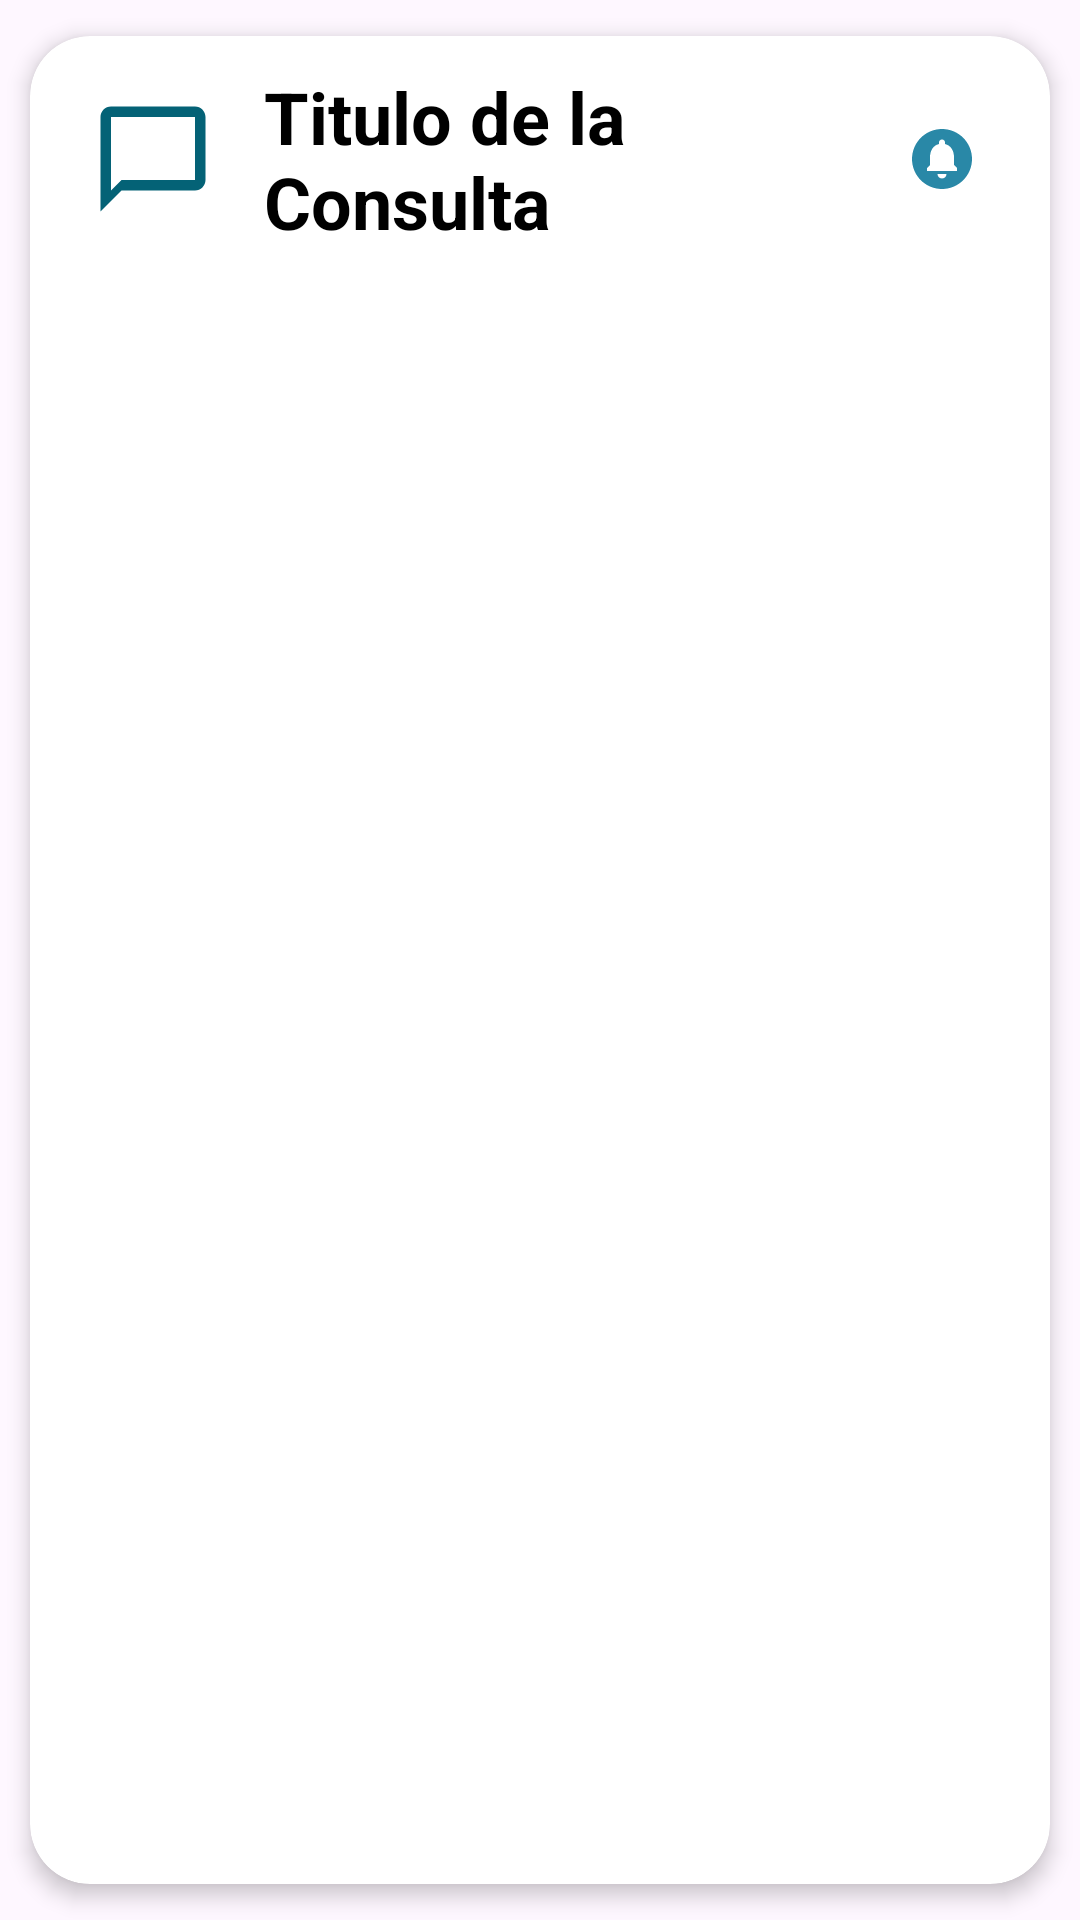

Named icons in this screenshot (1080x1920) and their centers, point (x, y):
alert notification consult: point (942, 159)
consultas: point (153, 159)
